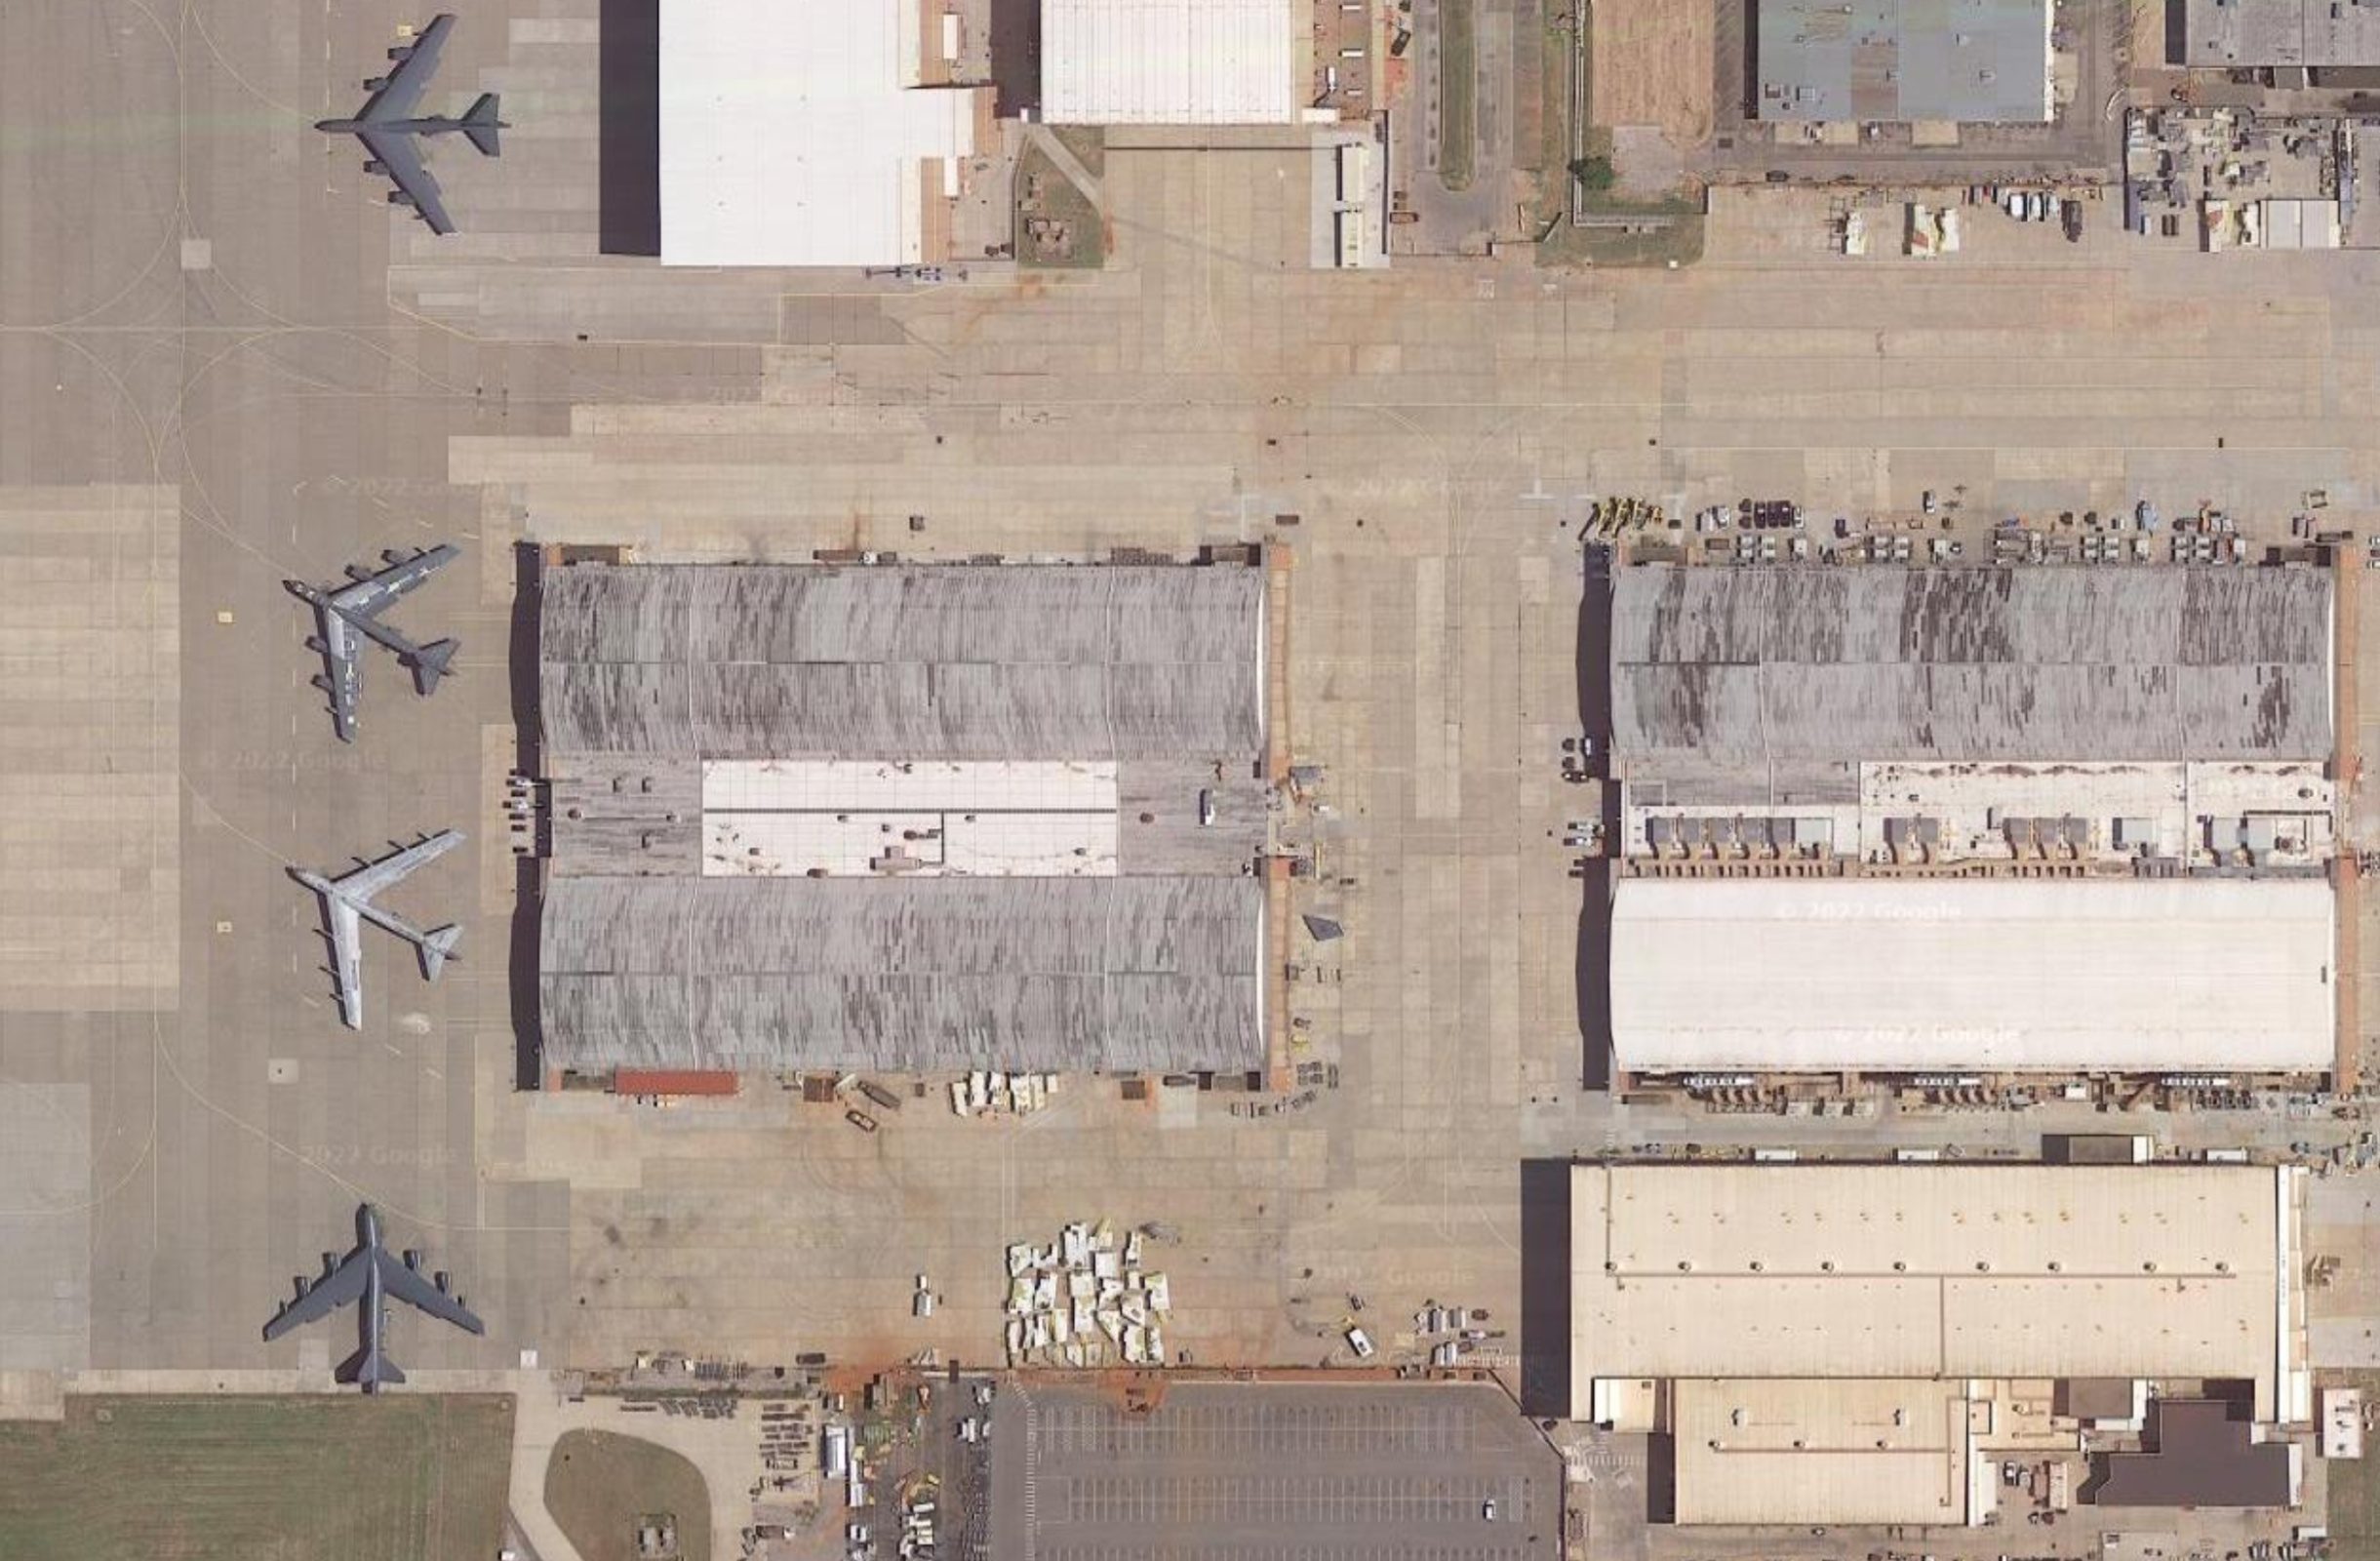B52: (263, 1202, 484, 1401), (313, 14, 512, 233), (286, 829, 467, 1031), (284, 542, 463, 744)
